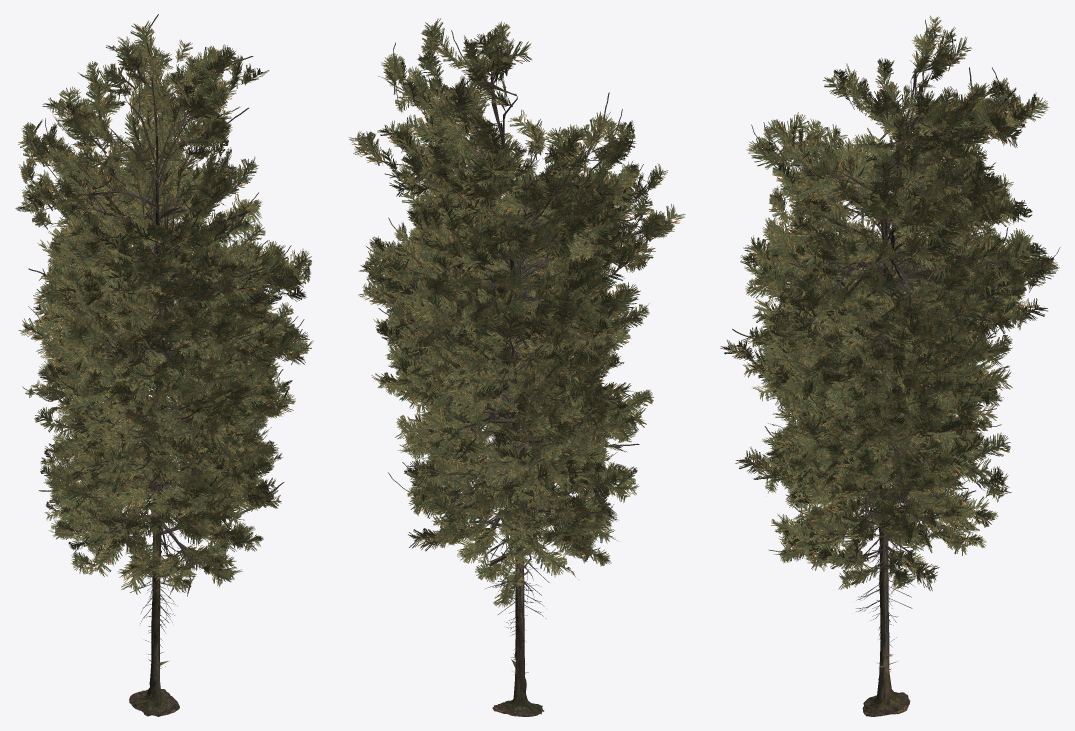
Rendered from pine_tree_01.glb.
The picture shows the model from 3 angles, left to right: view 1: azimuth 30°, elevation 25°; view 2: azimuth 150°, elevation 25°; view 3: azimuth 270°, elevation 25°; orthographic projection. The views are drawn at different scales.
Visible parts, largest first — view 1: pine_a_LOD0_twig, pine_c_LOD0_twig, pine_a_LOD1_twig, pine_a_LOD2_twig, pine_c_LOD1_twig, pine_b_LOD0_twig, pine_c_LOD2_twig, pine_b_LOD1_twig, pine_b_LOD2_twig, pine_a_LOD0_bark, pine_c_LOD0_bark, pine_a_LOD1_bark (+7 smaller); view 2: pine_a_LOD0_twig, pine_a_LOD1_twig, pine_c_LOD0_twig, pine_a_LOD2_twig, pine_b_LOD0_twig, pine_c_LOD1_twig, pine_b_LOD1_twig, pine_c_LOD2_twig, pine_b_LOD2_twig, pine_a_LOD0_bark, pine_a_LOD1_bark, pine_c_LOD0_bark (+4 smaller); view 3: pine_a_LOD0_twig, pine_c_LOD0_twig, pine_a_LOD1_twig, pine_a_LOD2_twig, pine_b_LOD0_twig, pine_c_LOD1_twig, pine_b_LOD1_twig, pine_c_LOD2_twig, pine_b_LOD2_twig, pine_a_LOD0_bark, pine_a_LOD1_bark, pine_c_LOD0_bark (+4 smaller).
Part boxes in pixels (bbox=[...]): pine_a_LOD0_twig: bbox=[15, 26, 310, 533]; pine_c_LOD0_twig: bbox=[28, 117, 292, 582]; pine_a_LOD1_twig: bbox=[20, 14, 309, 529]; pine_a_LOD2_twig: bbox=[25, 20, 313, 534]; pine_c_LOD1_twig: bbox=[20, 111, 304, 578]; pine_b_LOD0_twig: bbox=[22, 229, 292, 592]; pine_c_LOD2_twig: bbox=[18, 125, 299, 594]; pine_b_LOD1_twig: bbox=[28, 228, 293, 596]; pine_b_LOD2_twig: bbox=[39, 231, 295, 595]; pine_a_LOD0_bark: bbox=[27, 42, 288, 520]; pine_c_LOD0_bark: bbox=[58, 144, 270, 558]; pine_a_LOD1_bark: bbox=[46, 69, 271, 505]; pine_a_LOD0_twig: bbox=[348, 21, 680, 516]; pine_a_LOD1_twig: bbox=[353, 18, 685, 483]; pine_c_LOD0_twig: bbox=[373, 127, 653, 603]; pine_a_LOD2_twig: bbox=[356, 25, 665, 510]; pine_b_LOD0_twig: bbox=[386, 195, 639, 558]; pine_c_LOD1_twig: bbox=[371, 115, 647, 589]; pine_b_LOD1_twig: bbox=[373, 198, 640, 561]; pine_c_LOD2_twig: bbox=[369, 127, 650, 607]; pine_b_LOD2_twig: bbox=[388, 210, 633, 557]; pine_a_LOD0_bark: bbox=[372, 53, 642, 486]; pine_a_LOD1_bark: bbox=[399, 71, 629, 457]; pine_c_LOD0_bark: bbox=[405, 149, 609, 585]; pine_a_LOD0_twig: bbox=[740, 16, 1060, 548]; pine_c_LOD0_twig: bbox=[743, 130, 1034, 551]; pine_a_LOD1_twig: bbox=[745, 22, 1041, 513]; pine_a_LOD2_twig: bbox=[741, 27, 1049, 551]; pine_b_LOD0_twig: bbox=[728, 222, 1012, 589]; pine_c_LOD1_twig: bbox=[743, 133, 1029, 555]; pine_b_LOD1_twig: bbox=[720, 218, 1013, 590]; pine_c_LOD2_twig: bbox=[747, 129, 1047, 547]; pine_b_LOD2_twig: bbox=[732, 227, 1010, 594]; pine_a_LOD0_bark: bbox=[767, 42, 1036, 530]; pine_a_LOD1_bark: bbox=[773, 56, 1011, 534]; pine_c_LOD0_bark: bbox=[773, 144, 1008, 534].
Bounding box in the file's own units: 8.25 × 20.63 × 9.26.
Materials: 6 (6 with a texture image).
